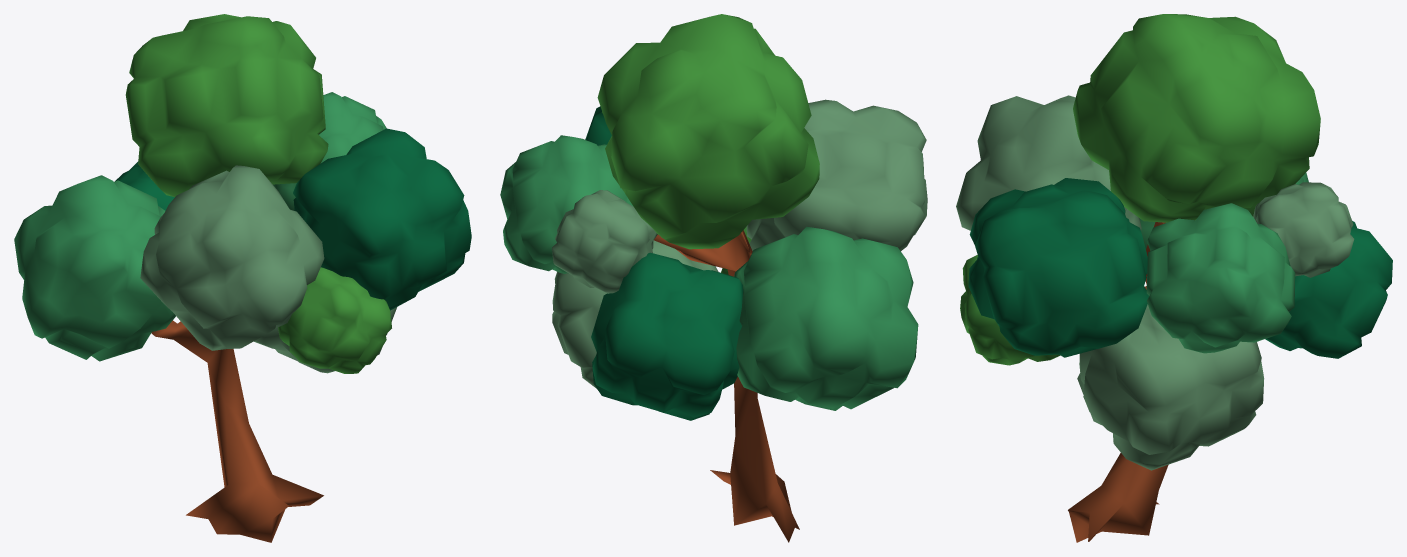
File: Arbol4.glb
3 renders of one model, left to right at view 1: azimuth 30°, elevation 25°; view 2: azimuth 150°, elevation 25°; view 3: azimuth 270°, elevation 25°, orthographic. The views are drawn at different scales.
Visible parts, largest first — view 1: Cubo.019, Cubo.021, Cubo.018, Cubo.024, Mball.004, Cubo.020, Cubo.017, Cubo.022, Cubo.023; view 2: Cubo.019, Cubo.024, Cubo.022, Cubo.021, Cubo.017, Mball.004, Cubo.016, Cubo.023, Cubo.018; view 3: Cubo.019, Cubo.018, Cubo.023, Cubo.017, Cubo.021, Cubo.022, Cubo.016, Mball.004, Cubo.020.
Part boxes in pixels (<box>): Cubo.019: <box>125,14,328,196</box>; Cubo.021: <box>140,165,324,350</box>; Cubo.018: <box>293,128,471,310</box>; Cubo.024: <box>14,175,175,361</box>; Mball.004: <box>151,320,323,542</box>; Cubo.020: <box>278,267,391,373</box>; Cubo.017: <box>273,92,386,210</box>; Cubo.022: <box>115,161,174,210</box>; Cubo.023: <box>254,307,396,373</box>; Cubo.019: <box>597,14,819,249</box>; Cubo.024: <box>734,226,918,410</box>; Cubo.022: <box>591,252,743,420</box>; Cubo.021: <box>746,99,927,251</box>; Cubo.017: <box>500,135,633,273</box>; Mball.004: <box>654,230,799,542</box>; Cubo.016: <box>552,190,657,293</box>; Cubo.023: <box>552,240,718,388</box>; Cubo.018: <box>585,106,611,145</box>; Cubo.019: <box>1073,14,1320,222</box>; Cubo.018: <box>968,178,1148,357</box>; Cubo.023: <box>1077,304,1264,470</box>; Cubo.017: <box>1146,203,1295,353</box>; Cubo.021: <box>956,95,1141,230</box>; Cubo.022: <box>1265,221,1392,358</box>; Cubo.016: <box>1253,182,1354,277</box>; Mball.004: <box>1068,222,1168,542</box>; Cubo.020: <box>960,255,1060,365</box>.
Size of the model in its own units: 6.31 by 8.01 by 5.92.
